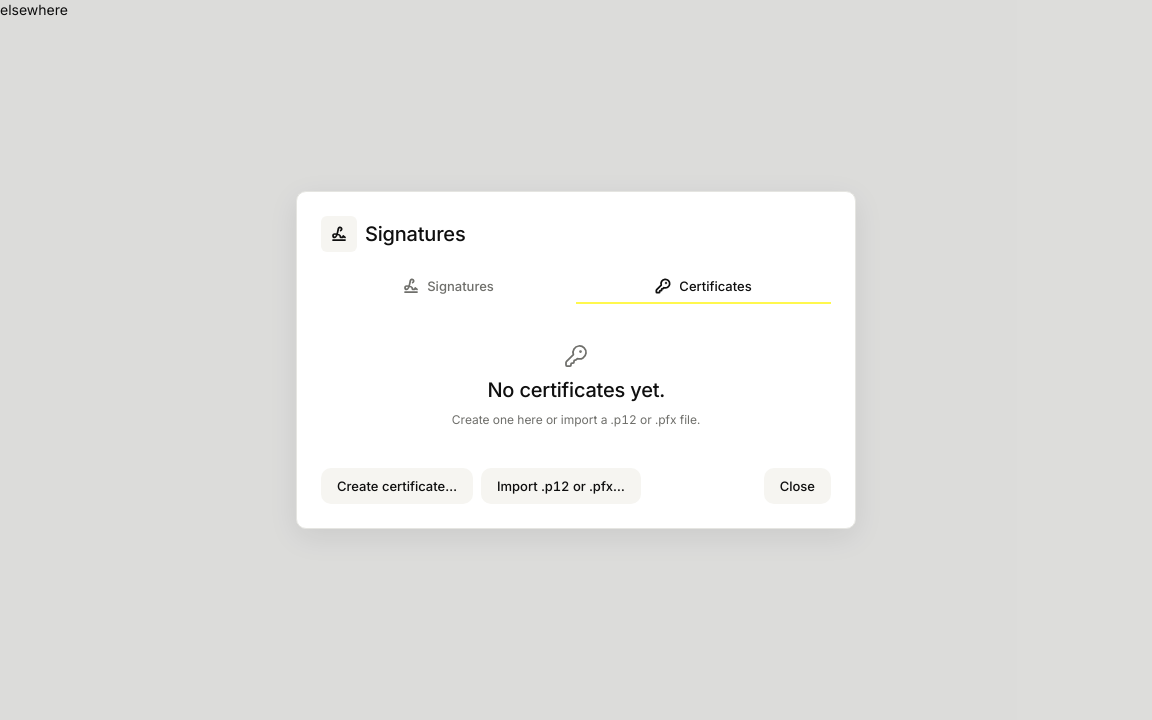
Test case: certificate manager › creates a certificate with only a name and selects the new row
Click the button "Create certificate…" at point(397, 486), box [321,468,473,504]
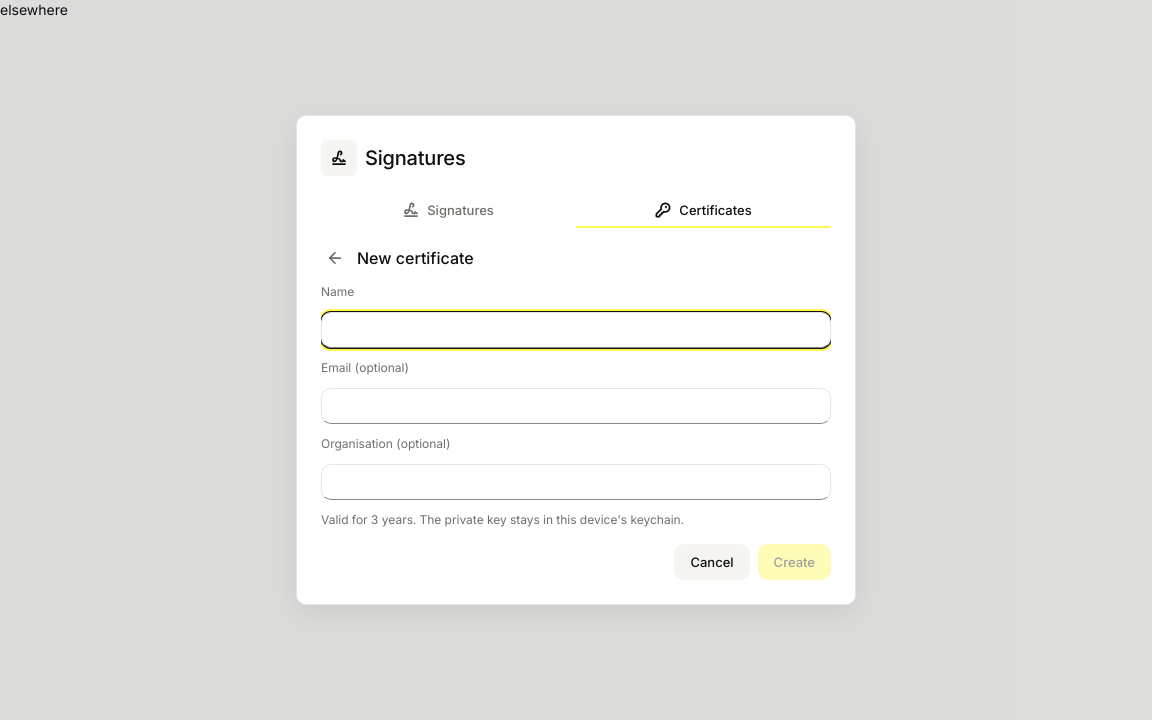
expect the heading "New certificate" is shown: met, box [357,246,474,270]
Type "  Ada  " into the field labelled "Name" at point(576, 330), box [321,312,831,348]
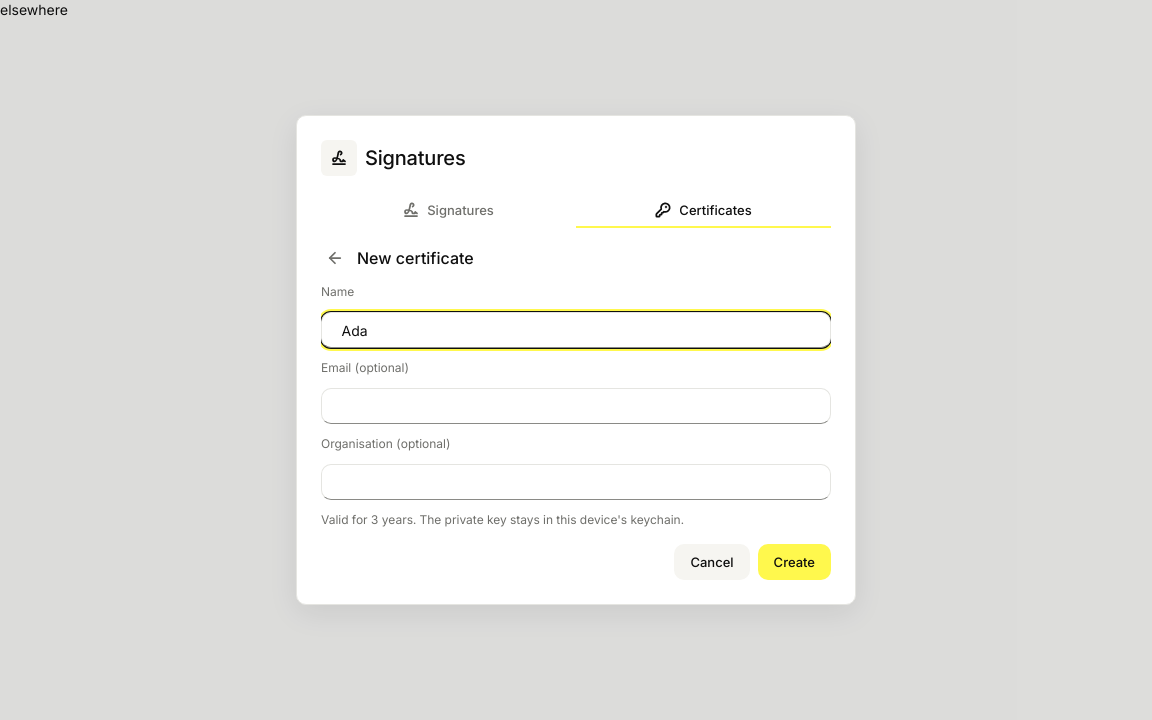
Click the button "Create" at point(794, 562), box [758,544,831,580]
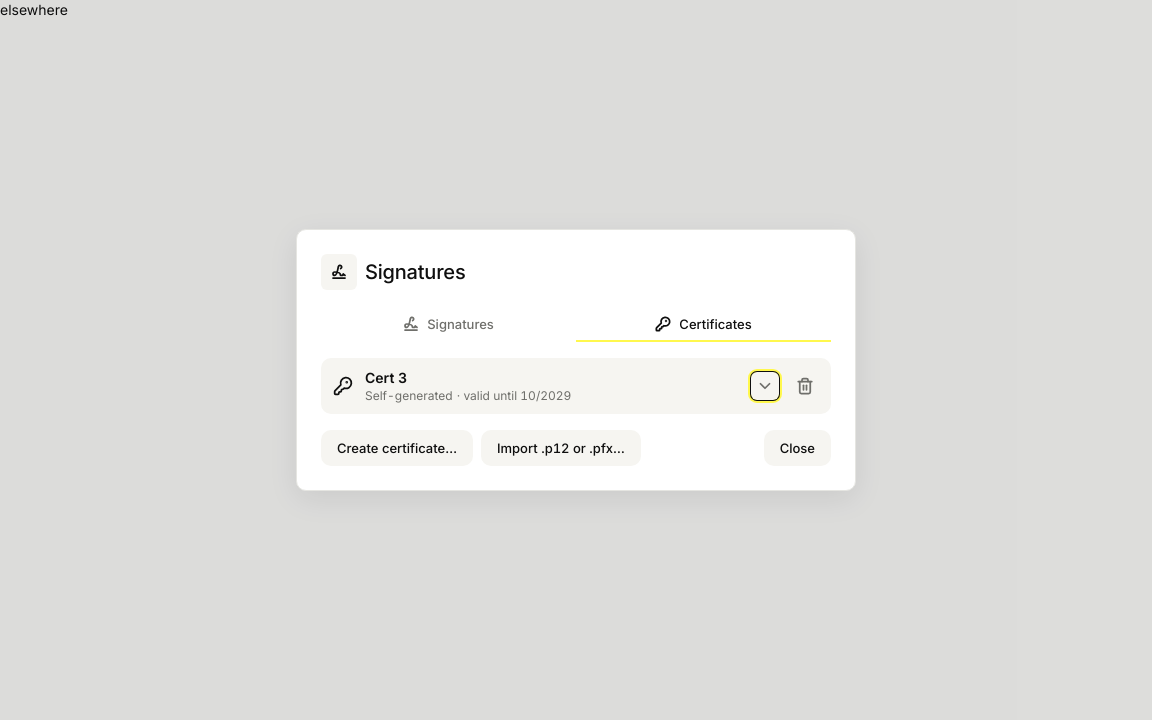
expect the list is shown: met, box [321,358,831,414]
expect the text "Cert 3" is shown: met, box [365,369,407,386]
